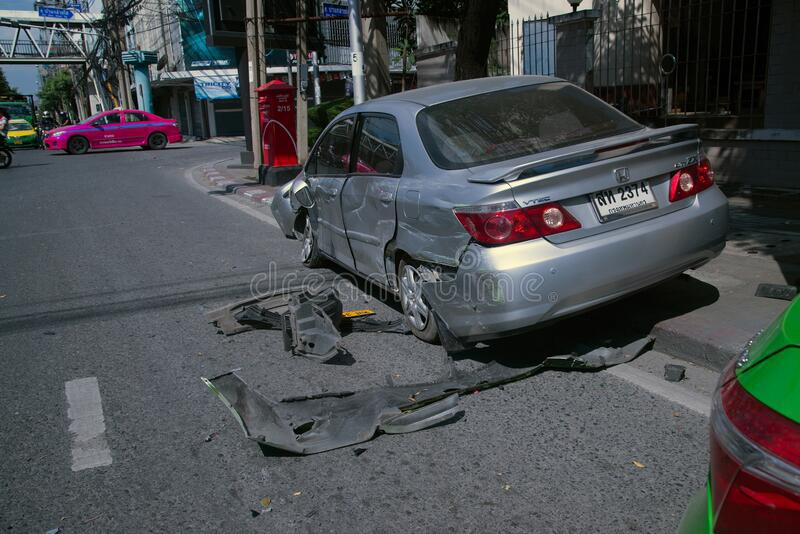doorouter-dent: (345, 177, 397, 280), (307, 177, 347, 259)
quaterpanel-dent: (400, 185, 500, 273)
rear-bumper-dent: (410, 258, 552, 346)
